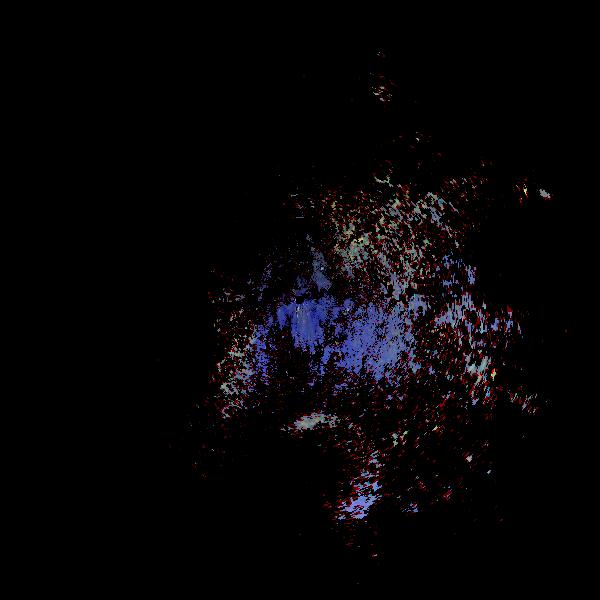roost: (252, 397, 399, 544)
